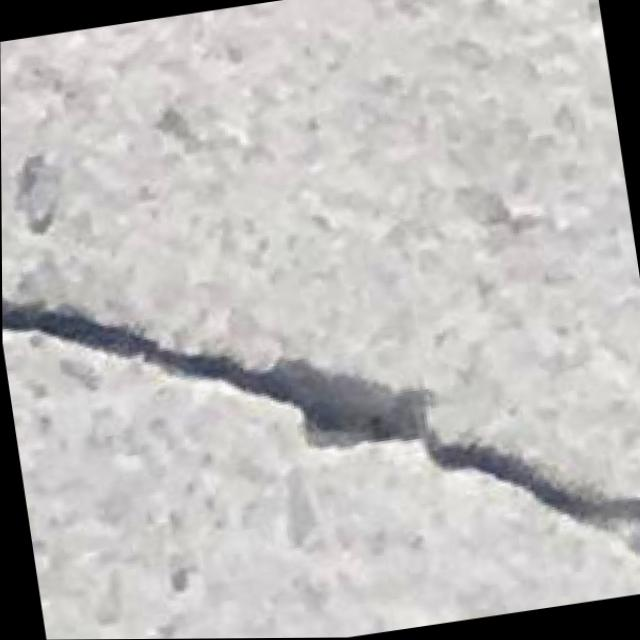Crack: (1, 175, 640, 640)
